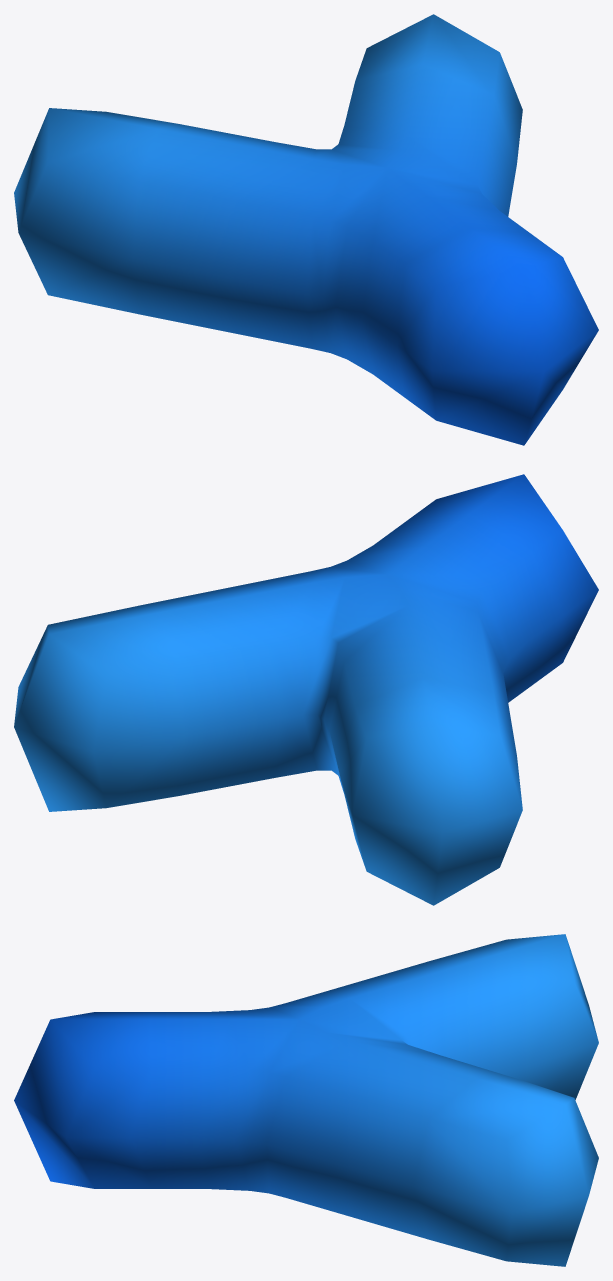
The model's file is CartoonFont_Y.FBX.
The picture shows the model from 3 angles, top to bottom: view 1: azimuth 30°, elevation 25°; view 2: azimuth 150°, elevation 25°; view 3: azimuth 270°, elevation 25°; orthographic projection. The views are drawn at different scales.
Parts seen in each view (by area): view 1: Y; view 2: Y; view 3: Y.
Boxes of the visible parts, <box> form: Y: <box>14,14,598,445</box>; Y: <box>14,474,598,905</box>; Y: <box>14,934,598,1266</box>.
Size of the model in its own units: 27.29 by 9.19 by 30.09.
Materials: 1 (1 with a texture image).
